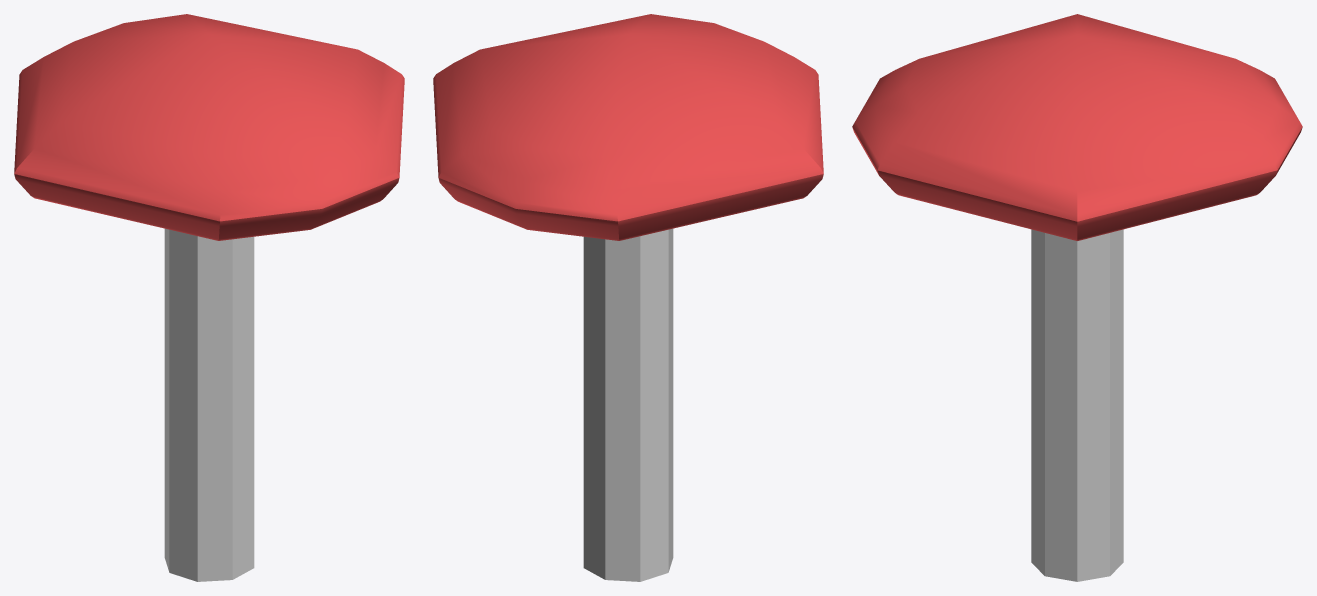
File: lowPolymushroom2.fbx
3 renders of one model, left to right at view 1: azimuth 30°, elevation 25°; view 2: azimuth 150°, elevation 25°; view 3: azimuth 270°, elevation 25°, orthographic.
Visible parts, largest first — view 1: Mushroom; view 2: Mushroom; view 3: Mushroom.
Boxes of the visible parts, x1,y1,x2,y2 form: Mushroom: [14, 14, 404, 581]; Mushroom: [433, 14, 823, 581]; Mushroom: [852, 14, 1302, 581].
Bounding box in the file's own units: 2.96 × 3.82 × 2.96.
